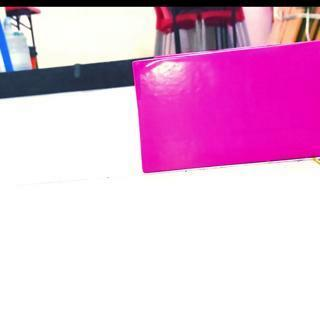xparking: (133, 61, 320, 166)
